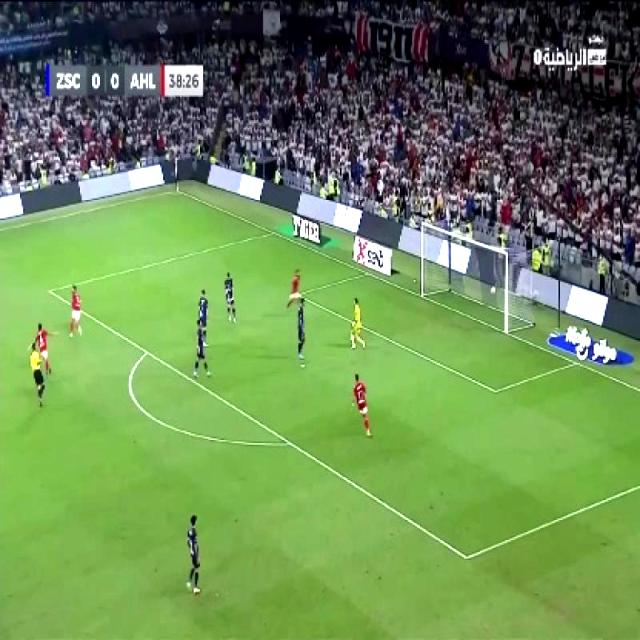bigarea_bottom_inner: (457, 543, 475, 571)
bigarea_top_inner: (39, 280, 59, 301)
bigarea_top_outter: (262, 226, 278, 240)
bottom_arc_area_intersection: (274, 428, 296, 452)
corner: (170, 188, 187, 197)
smallarea_bottom_inner: (488, 380, 502, 400)
smallarea_bottom_outter: (566, 354, 584, 370)
smallarea_top_inner: (295, 289, 302, 299)
smallarea_top_outter: (355, 267, 379, 281)
top_arc_area_intersection: (138, 342, 154, 362)
